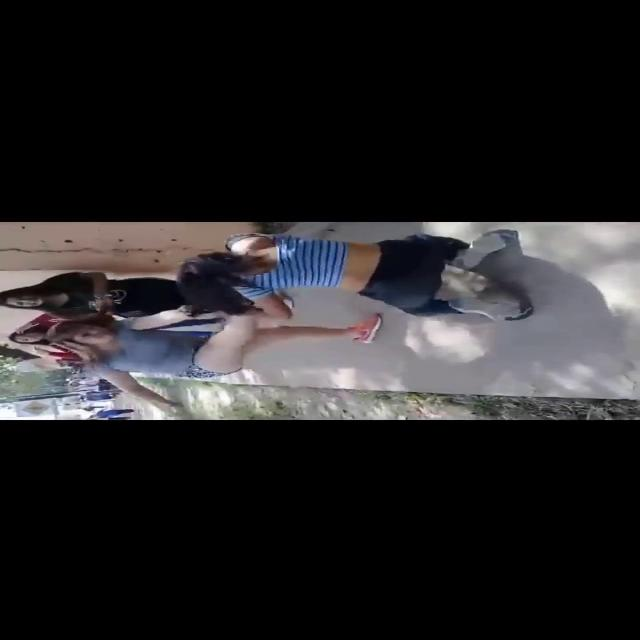Violence: (47, 232, 397, 382)
